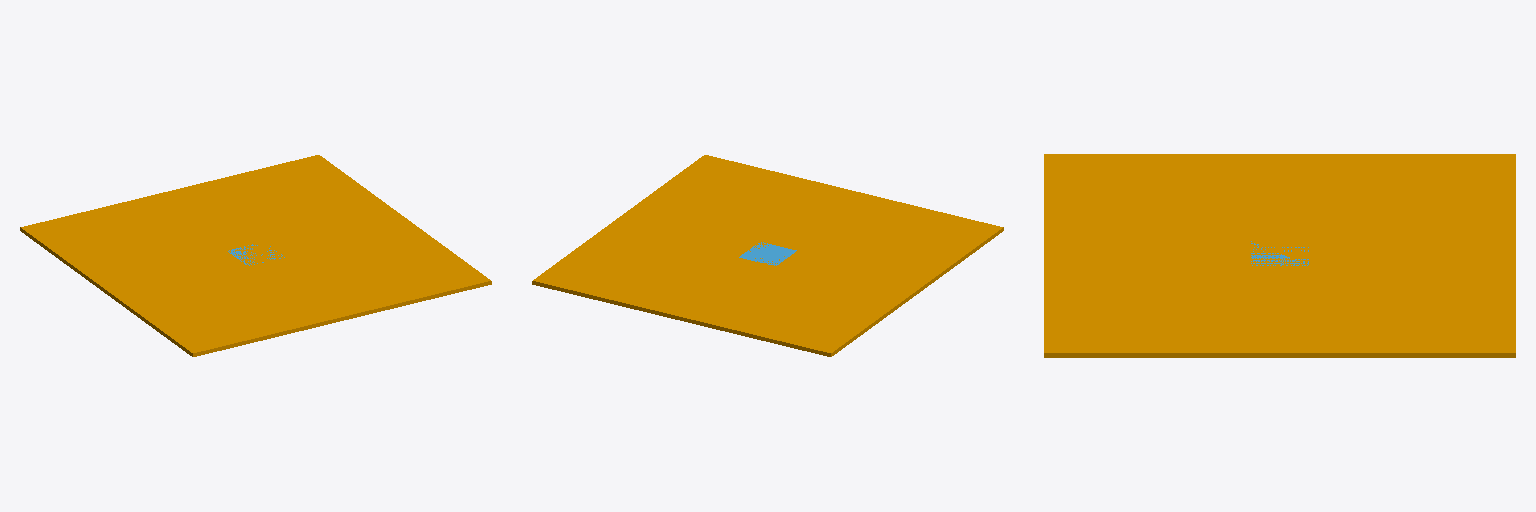
The robot description file, URDF, robot "panda":
<?xml version="1.0" ?>
<robot name="panda" xmlns:xacro="http://www.ros.org/wiki/xacro">
  <link name="basex">
    <visual>
      <origin xyz="0 0 -0.02"/>
      <geometry>
        <box size="0.8 0.8 0.01"/>
      </geometry>
    </visual>
  </link>
  <link name="basey">
    <visual>
      <origin xyz="0 0 -0.01"/>
      <geometry>
        <box size="0.1 0.1 0.01"/>
      </geometry>
    </visual>
  </link>
  <link name="panda_link0">
    <visual>
      <geometry>
        <mesh filename="package://franka_description/meshes/visual/link0.dae"/>
      </geometry>
    </visual>
    <collision>
      <geometry>
        <mesh filename="package://franka_description/meshes/collision/link0.obj"/>
      </geometry>
    </collision>
  </link>
  <link name="panda_link1">
    <visual>
      <geometry>
        <mesh filename="package://franka_description/meshes/visual/link1.dae"/>
      </geometry>
    </visual>
    <collision>
      <geometry>
        <mesh filename="package://franka_description/meshes/collision/link1.obj"/>
      </geometry>
    </collision>
  </link>
  <joint name="panda_joint1" type="revolute">
    <safety_controller k_position="100.0" k_velocity="40.0" soft_lower_limit="-2.8973" soft_upper_limit="2.8973"/>
    <origin rpy="0 0 0" xyz="0 0 0.333"/>
    <parent link="panda_link0"/>
    <child link="panda_link1"/>
    <axis xyz="0 0 1"/>
    <dynamics damping="10.0"/>
    <limit effort="87" lower="-2.8973" upper="2.8973" velocity="2.1750"/>
  </joint>
  <link name="panda_link2">
    <visual>
      <geometry>
        <mesh filename="package://franka_description/meshes/visual/link2.dae"/>
      </geometry>
    </visual>
    <collision>
      <geometry>
        <mesh filename="package://franka_description/meshes/collision/link2.obj"/>
      </geometry>
    </collision>
  </link>
  <joint name="panda_joint2" type="revolute">
    <safety_controller k_position="100.0" k_velocity="40.0" soft_lower_limit="-1.7628" soft_upper_limit="1.7628"/>
    <origin rpy="-1.57079632679 0 0" xyz="0 0 0"/>
    <parent link="panda_link1"/>
    <child link="panda_link2"/>
    <axis xyz="0 0 1"/>
    <dynamics damping="10.0"/>
    <limit effort="87" lower="-1.7628" upper="1.7628" velocity="2.1750"/>
  </joint>
  <link name="panda_link3">
    <visual>
      <geometry>
        <mesh filename="package://franka_description/meshes/visual/link3.dae"/>
      </geometry>
    </visual>
    <collision>
      <geometry>
        <mesh filename="package://franka_description/meshes/collision/link3.obj"/>
      </geometry>
    </collision>
  </link>
  <joint name="panda_joint3" type="revolute">
    <safety_controller k_position="100.0" k_velocity="40.0" soft_lower_limit="-2.8973" soft_upper_limit="2.8973"/>
    <origin rpy="1.57079632679 0 0" xyz="0 -0.316 0"/>
    <parent link="panda_link2"/>
    <child link="panda_link3"/>
    <axis xyz="0 0 1"/>
    <dynamics damping="10.0"/>
    <limit effort="87" lower="-2.8973" upper="2.8973" velocity="2.1750"/>
  </joint>
  <link name="panda_link4">
    <visual>
      <geometry>
        <mesh filename="package://franka_description/meshes/visual/link4.dae"/>
      </geometry>
    </visual>
    <collision>
      <geometry>
        <mesh filename="package://franka_description/meshes/collision/link4.obj"/>
      </geometry>
    </collision>
  </link>
  <joint name="panda_joint4" type="revolute">
    <safety_controller k_position="100.0" k_velocity="40.0" soft_lower_limit="-3.0718" soft_upper_limit="-0.0698"/>
    <origin rpy="1.57079632679 0 0" xyz="0.0825 0 0"/>
    <parent link="panda_link3"/>
    <child link="panda_link4"/>
    <axis xyz="0 0 1"/>    
    <dynamics damping="10.0"/>
    <limit effort="87" lower="-3.0718" upper="-0.0698" velocity="2.1750"/>
    <!-- something is weird with this joint limit config
    <dynamics damping="10.0"/>
    <limit effort="87" lower="-3.0" upper="0.087" velocity="2.1750"/>  -->
  </joint>
  <link name="panda_link5">
    <visual>
      <geometry>
        <mesh filename="package://franka_description/meshes/visual/link5.dae"/>
      </geometry>
    </visual>
    <collision>
      <geometry>
        <mesh filename="package://franka_description/meshes/collision/link5.obj"/>
      </geometry>
    </collision>
  </link>
  <joint name="panda_joint5" type="revolute">
    <safety_controller k_position="100.0" k_velocity="40.0" soft_lower_limit="-2.8973" soft_upper_limit="2.8973"/>
    <origin rpy="-1.57079632679 0 0" xyz="-0.0825 0.384 0"/>
    <parent link="panda_link4"/>
    <child link="panda_link5"/>
    <axis xyz="0 0 1"/>
    <dynamics damping="10.0"/>
    <limit effort="12" lower="-2.8973" upper="2.8973" velocity="2.6100"/>
  </joint>
  <link name="panda_link6">
    <visual>
      <geometry>
        <mesh filename="package://franka_description/meshes/visual/link6.dae"/>
      </geometry>
    </visual>
    <collision>
      <geometry>
        <mesh filename="package://franka_description/meshes/collision/link6.obj"/>
      </geometry>
    </collision>
  </link>
  <joint name="panda_joint6" type="revolute">
    <safety_controller k_position="100.0" k_velocity="40.0" soft_lower_limit="-0.0175" soft_upper_limit="3.7525"/>
    <origin rpy="1.57079632679 0 0" xyz="0 0 0"/>
    <parent link="panda_link5"/>
    <child link="panda_link6"/>
    <axis xyz="0 0 1"/>
    <dynamics damping="10.0"/>
    <limit effort="12" lower="-0.0175" upper="3.7525" velocity="2.6100"/>
    <!-- <dynamics damping="10.0"/>
    <limit effort="12" lower="-0.0873" upper="3.0" velocity="2.6100"/> -->
  </joint>
  <link name="panda_link7">
    <visual>
      <geometry>
        <mesh filename="package://franka_description/meshes/visual/link7.dae"/>
      </geometry>
    </visual>
    <collision>
      <geometry>
        <mesh filename="package://franka_description/meshes/collision/link7.obj"/>
      </geometry>
    </collision>
  </link>
  <joint name="panda_joint7" type="revolute">
    <safety_controller k_position="100.0" k_velocity="40.0" soft_lower_limit="-2.8973" soft_upper_limit="2.8973"/>
    <origin rpy="1.57079632679 0 0" xyz="0.088 0 0"/>
    <parent link="panda_link6"/>
    <child link="panda_link7"/>
    <axis xyz="0 0 1"/>
    <dynamics damping="10.0"/>
    <limit effort="12" lower="-2.8973" upper="2.8973" velocity="2.6100"/>
  </joint>
  <!--
  <link name="panda_link8"/>
  <joint name="panda_joint8" type="fixed">
    <origin rpy="0 0 0" xyz="0 0 0.107"/>
    <parent link="panda_link7"/>
    <child link="panda_link8"/>
    <axis xyz="0 0 0"/>
  </joint>
  Removing this joint seems to help with some stability things
  -->
  <joint name="panda_hand_joint" type="fixed">
    <!--
    <parent link="panda_link8"/>
    -->
    <parent link="panda_link7"/>
    <child link="panda_hand"/>
    <origin rpy="0 0 -0.785398163397" xyz="0 0 0.107"/>
    <!--
    <origin rpy="0 0 -0.785398163397" xyz="0 0 0"/>
    -->
  </joint>
  <link name="panda_hand">
    <visual>
      <geometry>
        <mesh filename="package://franka_description/meshes/visual/hand.dae"/>
      </geometry>
    </visual>
    <collision>
      <geometry>
        <mesh filename="package://franka_description/meshes/collision/hand.obj"/>
      </geometry>
    </collision>
  </link>
  <link name="panda_leftfinger">
    <visual>
      <geometry>
        <mesh filename="package://franka_description/meshes/visual/finger.dae"/>
      </geometry>
    </visual>
    <collision>
      <geometry>
        <mesh filename="package://franka_description/meshes/collision/finger.obj"/>
      </geometry>
    </collision>
  </link>
  <link name="panda_rightfinger">
    <visual>
      <origin rpy="0 0 3.14159265359" xyz="0 0 0"/>
      <geometry>
        <mesh filename="package://franka_description/meshes/visual/finger.dae"/>
      </geometry>
    </visual>
    <collision>
      <origin rpy="0 0 3.14159265359" xyz="0 0 0"/>
      <geometry>
        <mesh filename="package://franka_description/meshes/collision/finger.obj"/>
      </geometry>
    </collision>
  </link>
  <joint name="panda_finger_joint1" type="prismatic">
    <parent link="panda_hand"/>
    <child link="panda_leftfinger"/>
    <origin rpy="0 0 0" xyz="0 0 0.0584"/>
    <axis xyz="0 1 0"/>
    <dynamics damping="10.0"/>
    <limit effort="20" lower="0.0" upper="0.04" velocity="0.2"/>
  </joint>
  <joint name="panda_finger_joint2" type="prismatic">
    <parent link="panda_hand"/>
    <child link="panda_rightfinger"/>
    <origin rpy="0 0 0" xyz="0 0 0.0584"/>
    <axis xyz="0 -1 0"/>
    <dynamics damping="10.0"/>
    <limit effort="20" lower="0.0" upper="0.04" velocity="0.2"/>
    <mimic joint="panda_finger_joint1"/>
  </joint>
  <joint name="z_free_base1" type="prismatic">
    <origin rpy="0 0 0" xyz="0 0 -0.01"/>
    <parent link="basex"/>
    <child link="basey"/>
    <axis xyz="1 0 0"/>
    <dynamics damping="10.0"/>
    <limit effort="100" lower="-0.3" upper="0.3" velocity="1.0"/>
  </joint>
  <joint name="z_free_base2" type="prismatic">
    <origin rpy="0 0 0" xyz="0 0 0"/>
    <parent link="basey"/>
    <child link="panda_link0"/>
    <axis xyz="0 1 0"/>
    <dynamics damping="10.0"/>
    <limit effort="100" lower="-0.3" upper="0.3" velocity="1.0"/>
  </joint>
</robot>

--- Facts derived from the render (not from the file) ---
3 views of the same robot in one strip: view 1: azimuth 30°, elevation 25°; view 2: azimuth 150°, elevation 25°; view 3: azimuth 270°, elevation 25° (orthographic).
Model panda with 13 links and 12 joints (7 revolute, 4 prismatic, 1 fixed), rooted at basex, posed joints at zero except 1 at the middle of their limits (panda_joint4 = -1.57).
Visible links, largest first — view 1: basex; view 2: basex, basey; view 3: basex.
Link boxes in pixels (left/top/right/bottom): basex: left=20, top=155, right=491, bottom=356; basex: left=532, top=155, right=1003, bottom=356; basey: left=739, top=242, right=796, bottom=265; basex: left=1044, top=154, right=1515, bottom=357.
Bounding box of the posed robot: 0.8 × 0.8 × 0.01 m (x, y, z).
Meshes: 10 distinct files referenced, 0 mesh visuals loaded (none loaded); not drawn: 11 (reference not matched to a file when rendering).